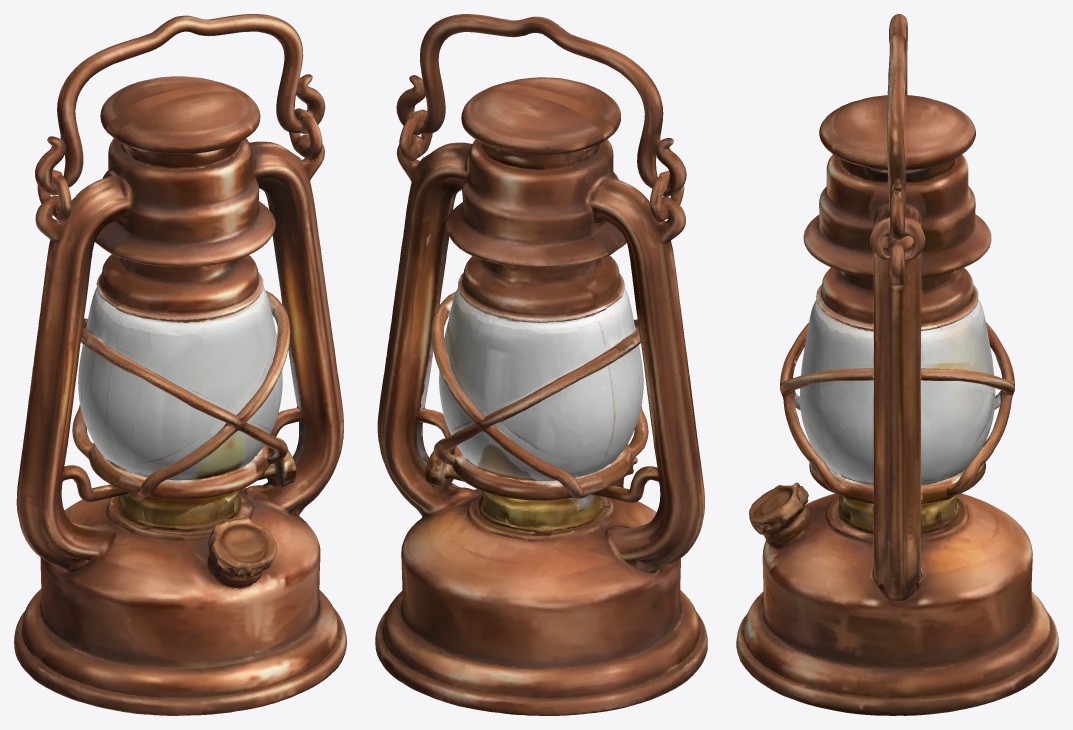
File: oillamp-fixed.glb
The picture shows the model from 3 angles, left to right: view 1: azimuth 30°, elevation 25°; view 2: azimuth 150°, elevation 25°; view 3: azimuth 270°, elevation 25°; orthographic projection. The views are drawn at different scales.
Visible parts, largest first — view 1: geometry_0; view 2: geometry_0; view 3: geometry_0.
Part boxes in pixels (x1,y1,x2,y2): geometry_0: (14, 14, 346, 715); geometry_0: (375, 14, 707, 715); geometry_0: (736, 14, 1058, 715).
Size of the model in its own units: 0.1725 by 0.32 by 0.1529.
1 material, 1 textured.
